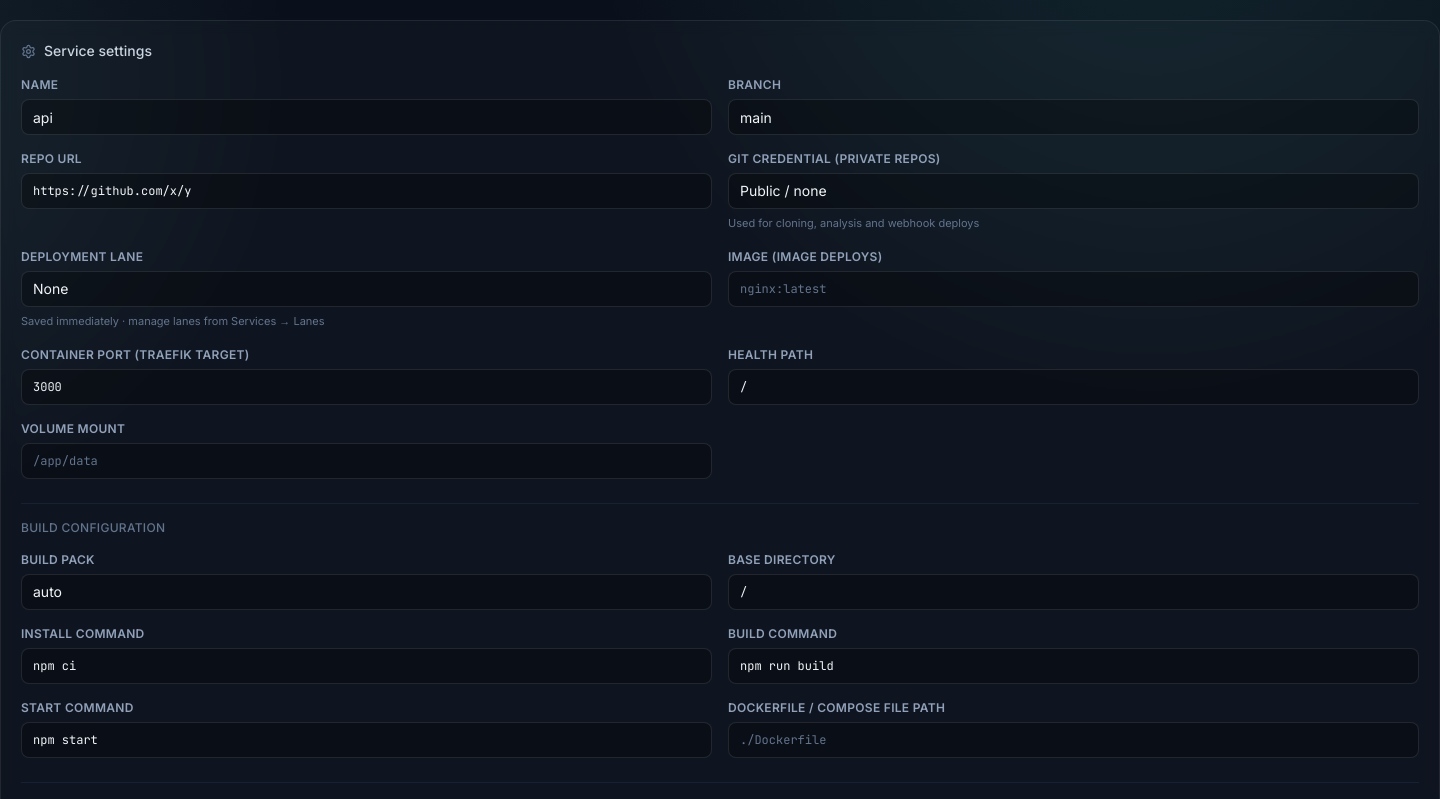
Test: SettingsTab deployment lane (r347) › reports a refused lane change
The width and height of the screenshot is (1440, 799).
Select "elsewhere" in the dropdown labelled "Deployment lane": [366, 289] box [21,271,712,307]
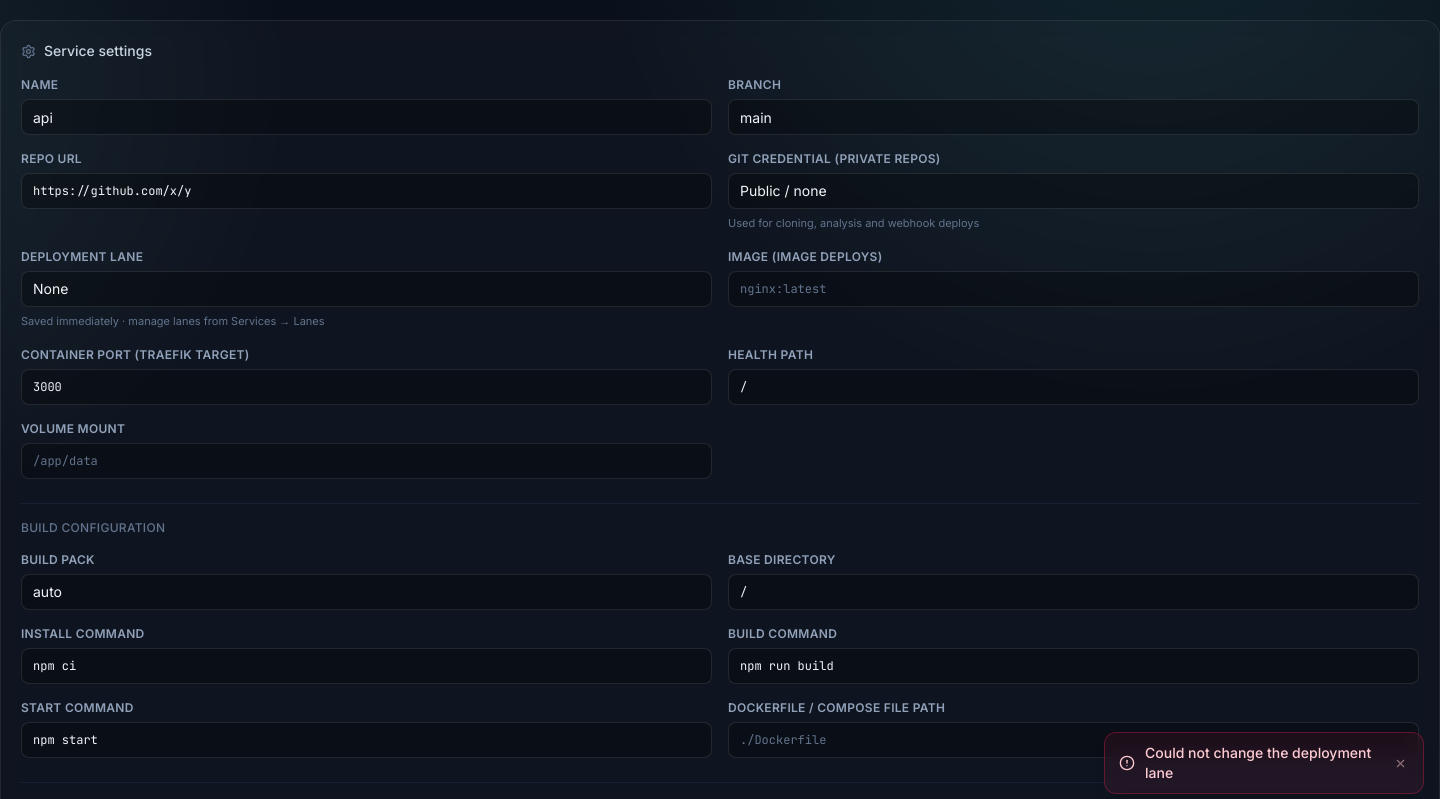
Result: the text "Could not change the deployment lane" is shown at [1145,743,1382,783]
